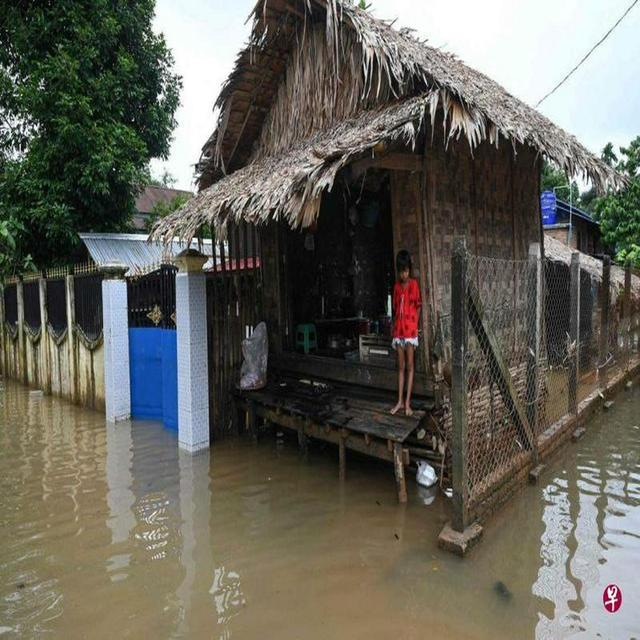Person-RiskLevel1: (380, 246, 428, 437)
